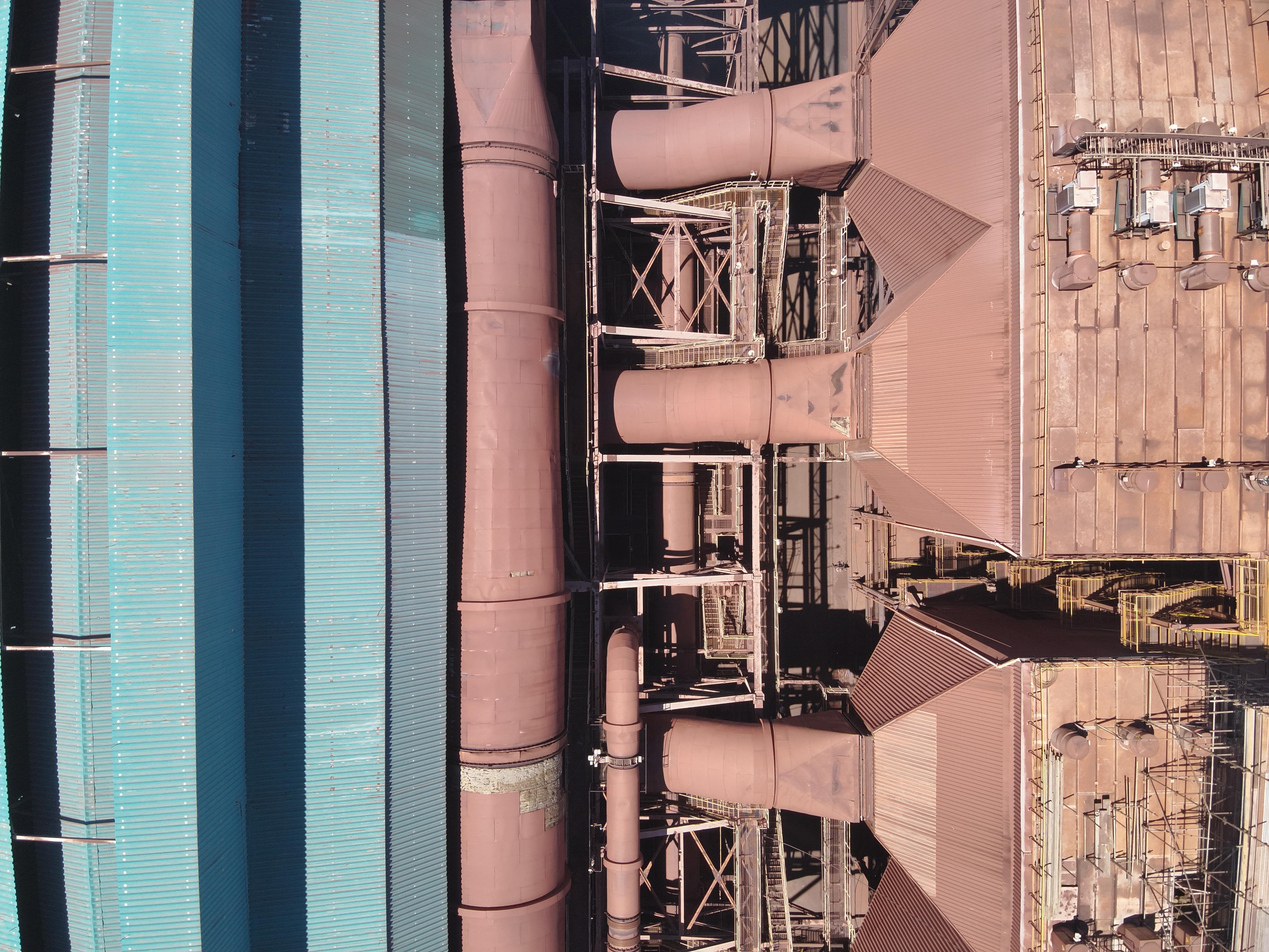Failures: (455, 760, 569, 826), (533, 167, 559, 199), (827, 411, 852, 442), (508, 567, 537, 580)
